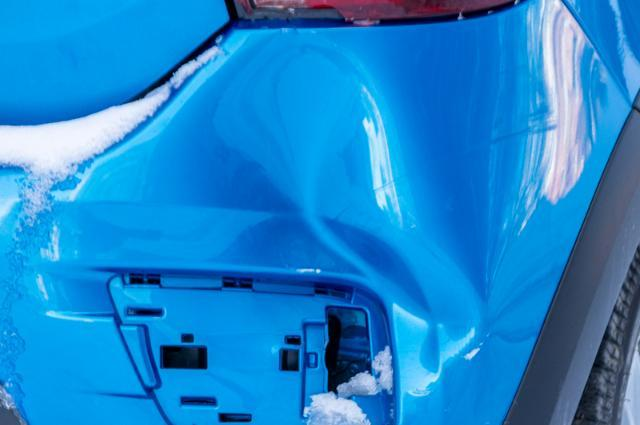Bumper: (0, 5, 640, 425)
